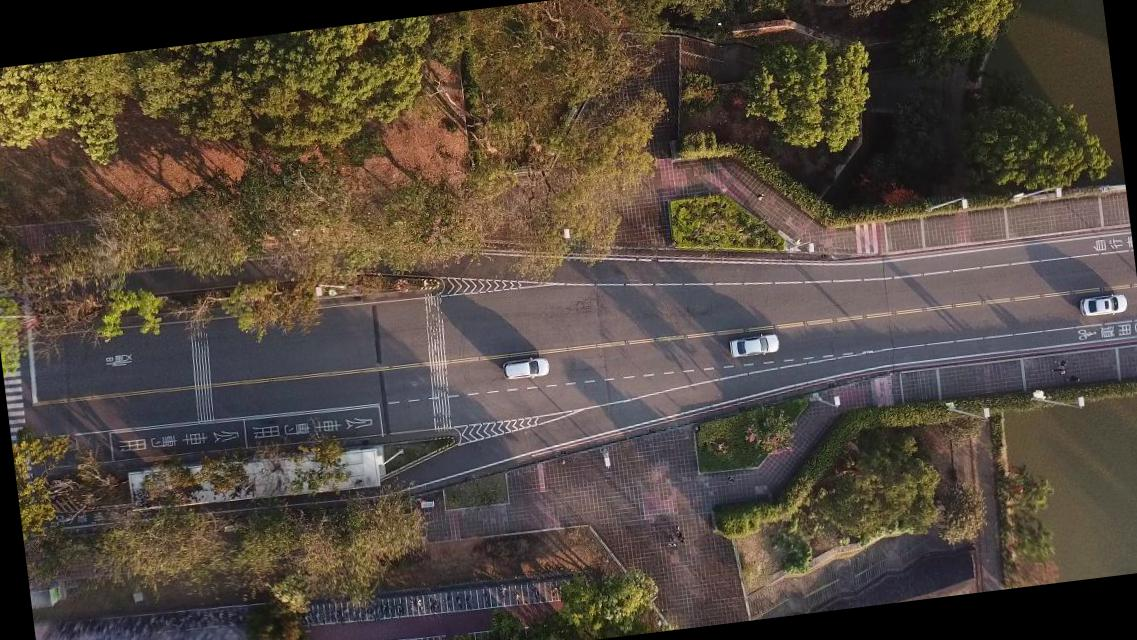vehicle: (728, 330, 779, 360), (1077, 290, 1127, 318), (498, 354, 550, 380)
